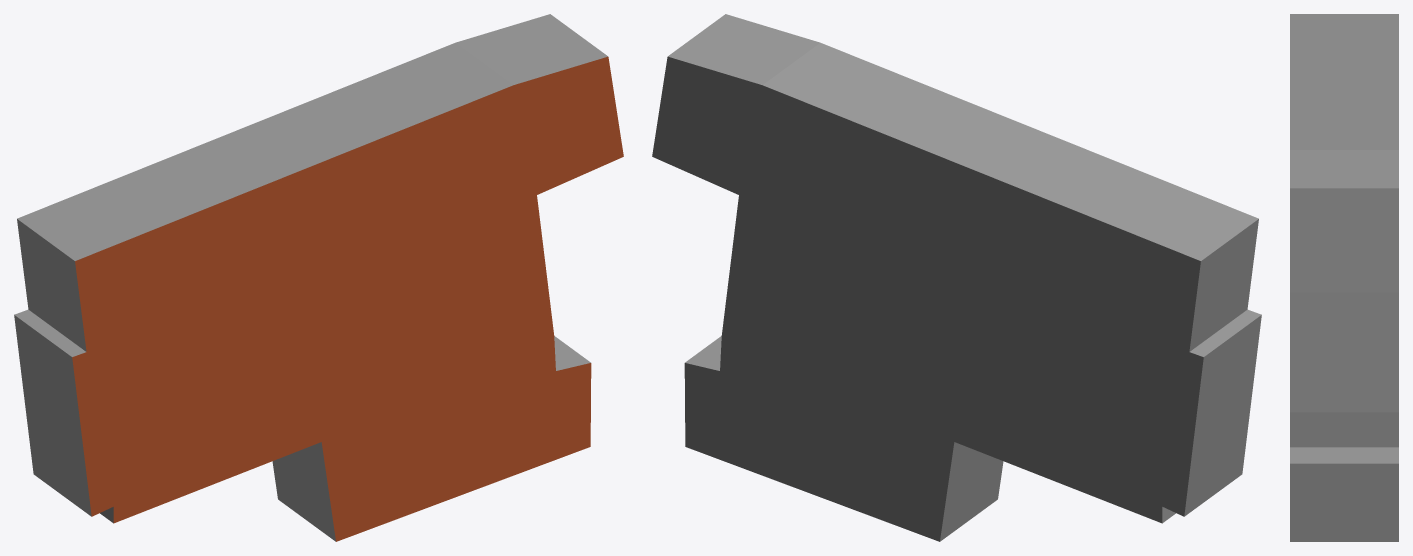
Rendered from construction_1819_assumed_A_Casa_h6m.obj.
3 views of the same model, side by side, from view 1: azimuth 30°, elevation 25°; view 2: azimuth 150°, elevation 25°; view 3: azimuth 270°, elevation 25° (orthographic). The views are drawn at different scales.
Parts seen in each view (by area): view 1: construction_1819_assumed_A_Casa; view 2: construction_1819_assumed_A_Casa; view 3: construction_1819_assumed_A_Casa.
Part boxes in pixels (left/top/right/bottom): construction_1819_assumed_A_Casa: left=14, top=14, right=623, bottom=541; construction_1819_assumed_A_Casa: left=652, top=14, right=1261, bottom=541; construction_1819_assumed_A_Casa: left=1290, top=14, right=1398, bottom=541.
Bounding box in the file's own units: 32.89 × 23.87 × 6.
